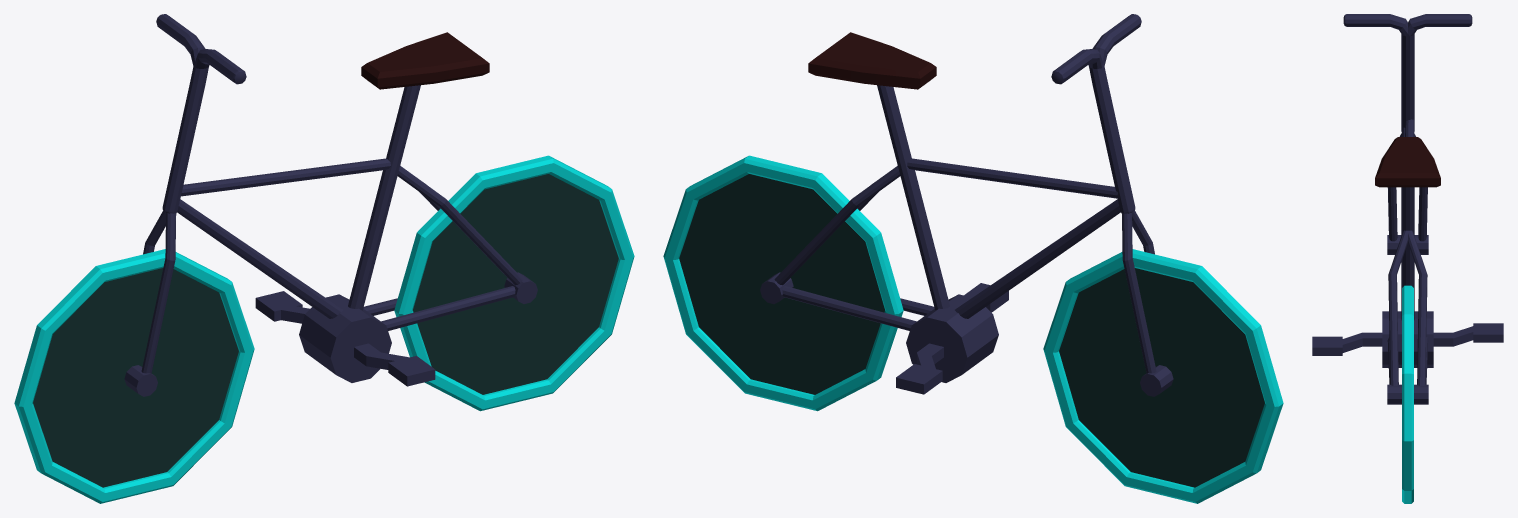
Rendered from Bicycle.fbx.
3 views of the same model, side by side, from view 1: azimuth 30°, elevation 25°; view 2: azimuth 150°, elevation 25°; view 3: azimuth 270°, elevation 25° (orthographic). The views are drawn at different scales.
Visible parts, largest first — view 1: Bicycle; view 2: Bicycle; view 3: Bicycle.
Boxes of the visible parts, x1=… form: Bicycle: x1=14, y1=14, x2=634, y2=503; Bicycle: x1=663, y1=14, x2=1283, y2=503; Bicycle: x1=1312, y1=14, x2=1503, y2=503.
Size of the model in its own units: 1.76 by 1.19 by 0.5863.
